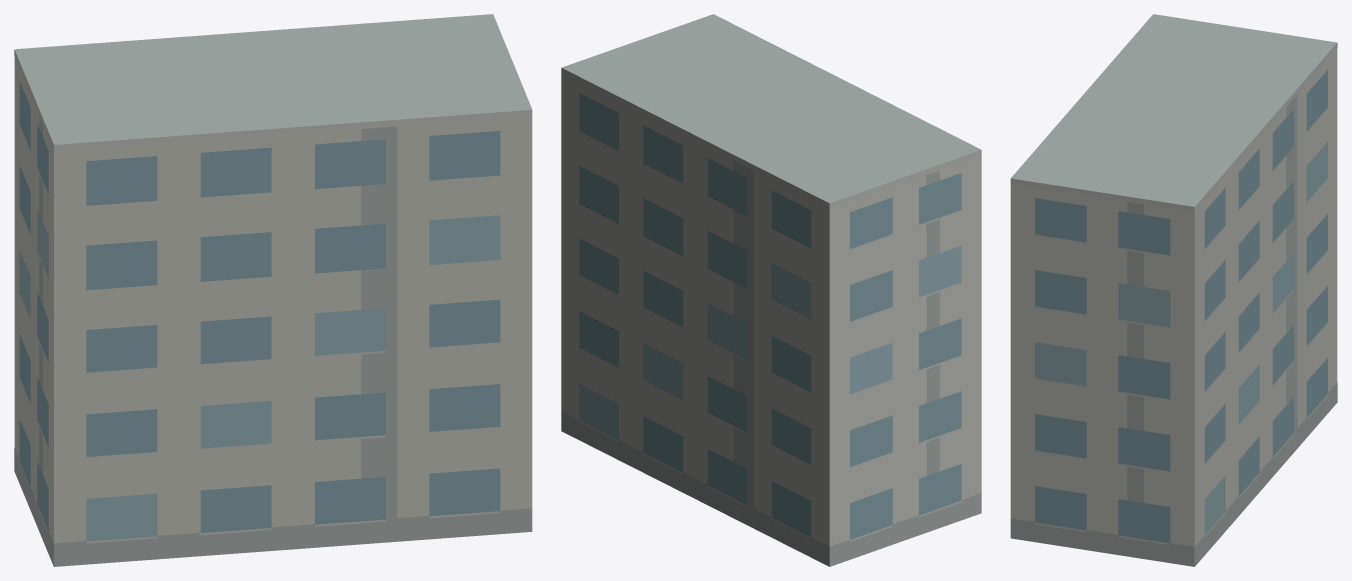
The model's file is residential-db4624e7-b110-44fd-8aa2-951e3dca932e.glb.
The picture shows the model from 3 angles, left to right: view 1: azimuth 30°, elevation 25°; view 2: azimuth 150°, elevation 25°; view 3: azimuth 270°, elevation 25°; orthographic projection. The views are drawn at different scales.
Parts seen in each view (by area): view 1: residential-db4624e7-b110-44fd-8aa2-951e3dca932e.tmp; view 2: residential-db4624e7-b110-44fd-8aa2-951e3dca932e.tmp; view 3: residential-db4624e7-b110-44fd-8aa2-951e3dca932e.tmp.
Part boxes in pixels (x1,y1,x2,y2): residential-db4624e7-b110-44fd-8aa2-951e3dca932e.tmp: (14, 14, 532, 566); residential-db4624e7-b110-44fd-8aa2-951e3dca932e.tmp: (561, 14, 981, 566); residential-db4624e7-b110-44fd-8aa2-951e3dca932e.tmp: (1010, 14, 1337, 566).
Bounding box in the file's own units: 17.54 × 15.25 × 12.56.
